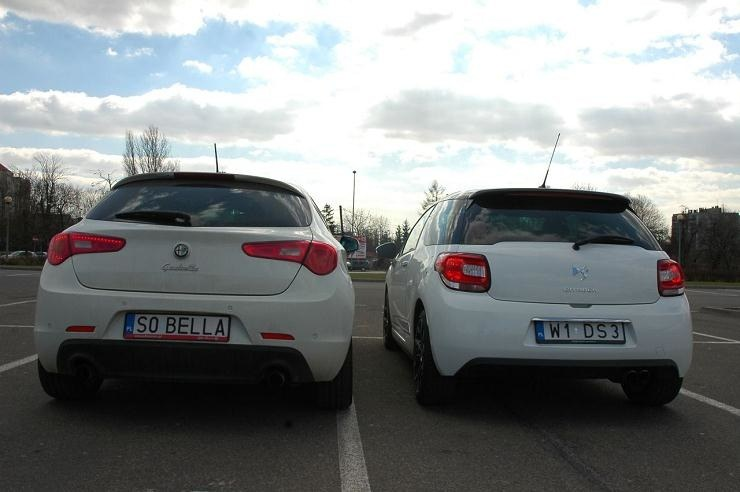number_plate: (534, 320, 626, 344)
